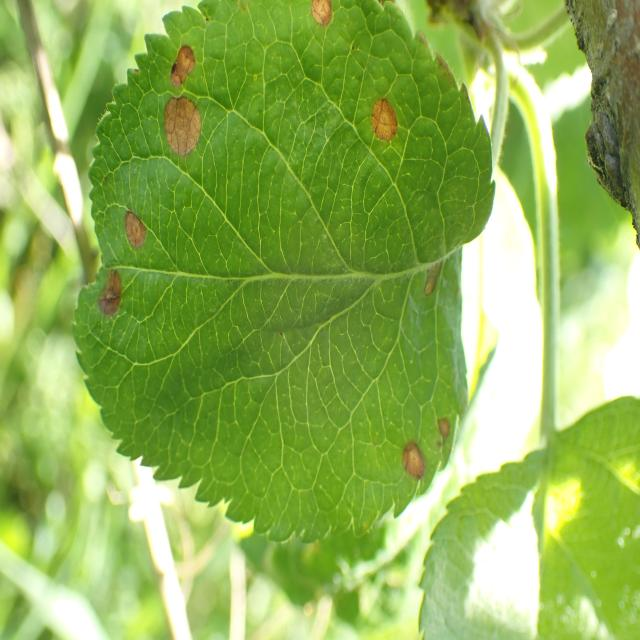Black Rot: (149, 95, 211, 158), (360, 83, 404, 166), (109, 201, 159, 264), (88, 271, 132, 332), (392, 437, 434, 495), (162, 38, 206, 89), (418, 252, 456, 298), (306, 0, 339, 37), (430, 410, 457, 448)
